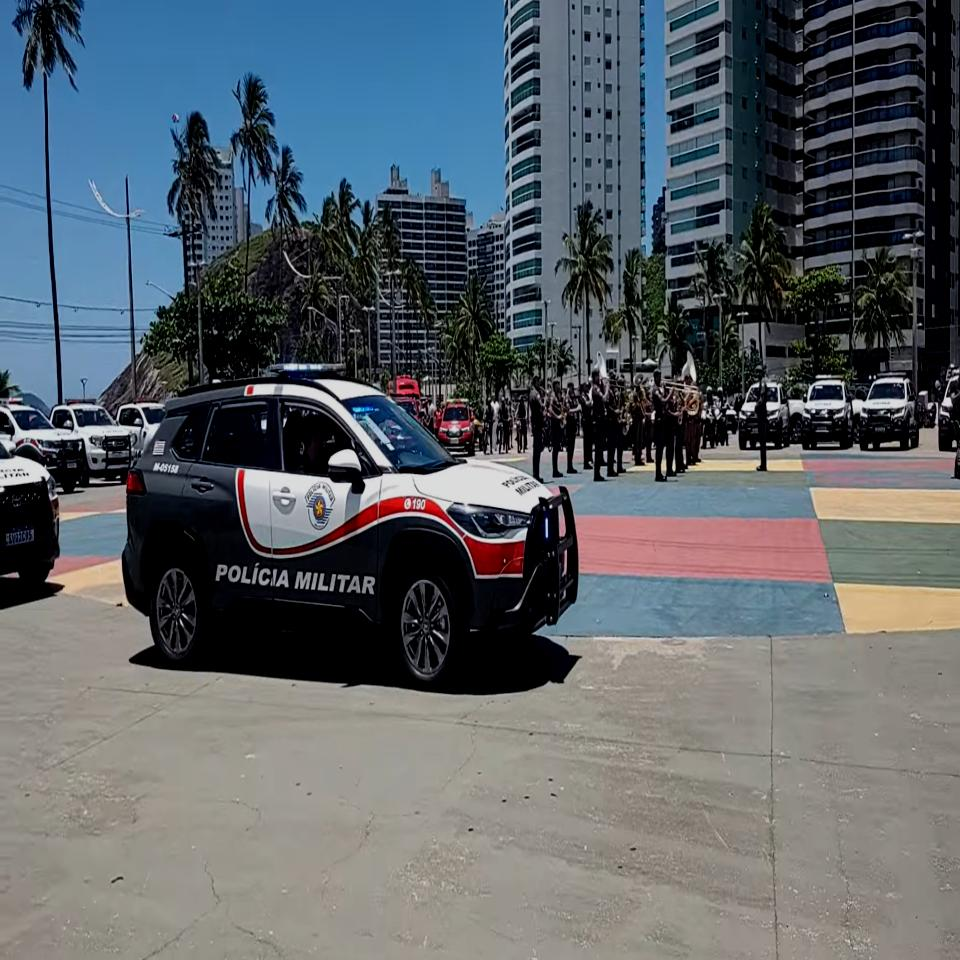viatura: (118, 358, 579, 689)
